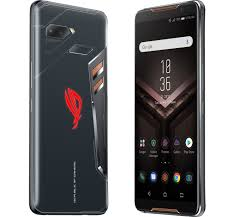asus: (27, 1, 111, 217), (132, 1, 208, 215)
